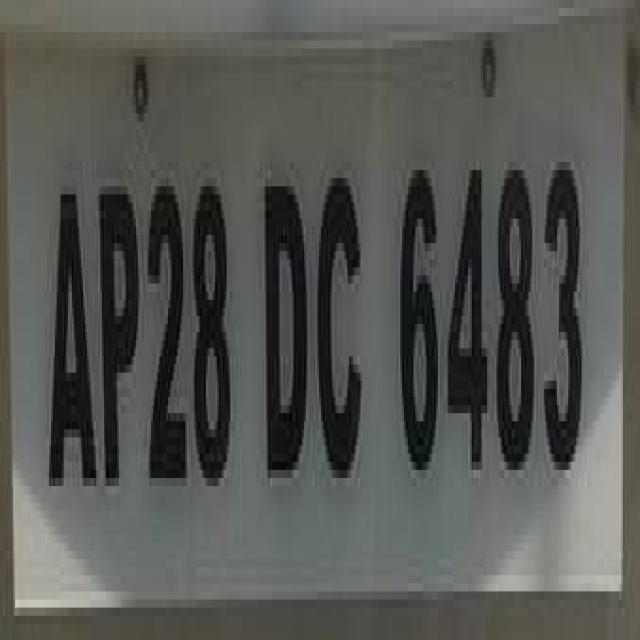plate: (19, 8, 640, 632)
